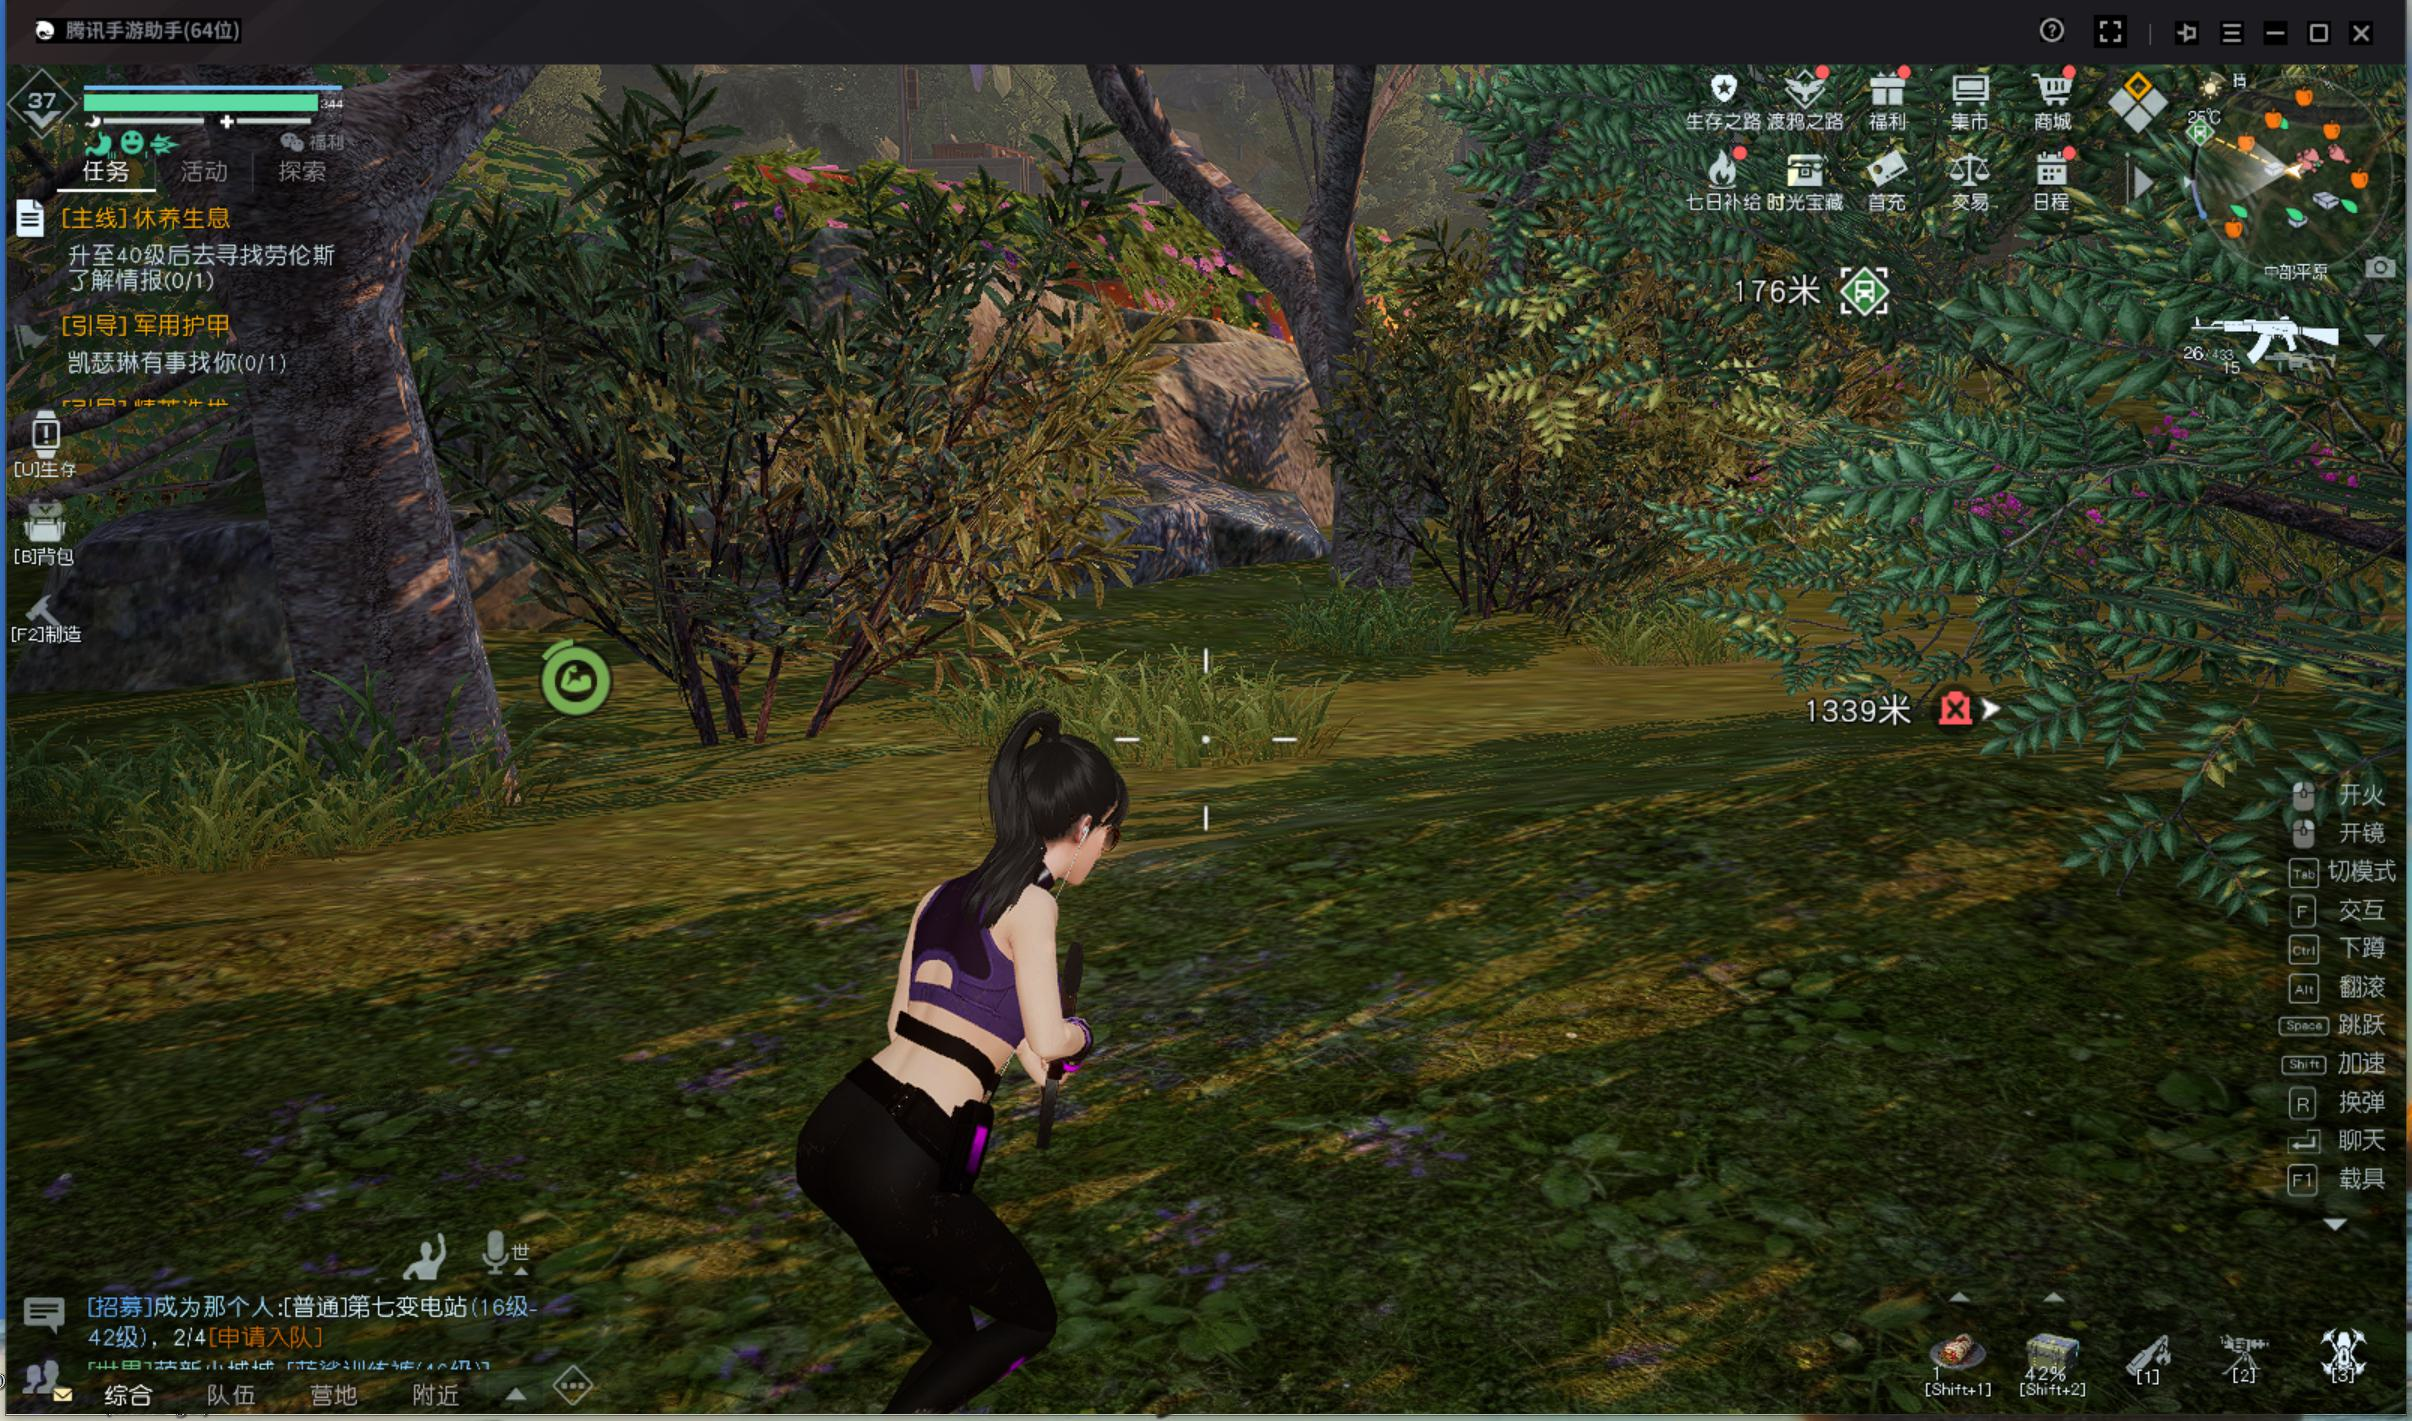tree: (223, 293, 538, 839)
